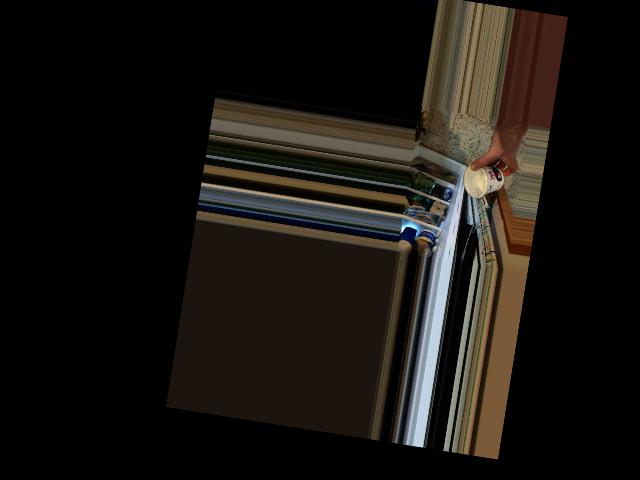cotage: (468, 164, 504, 198)
